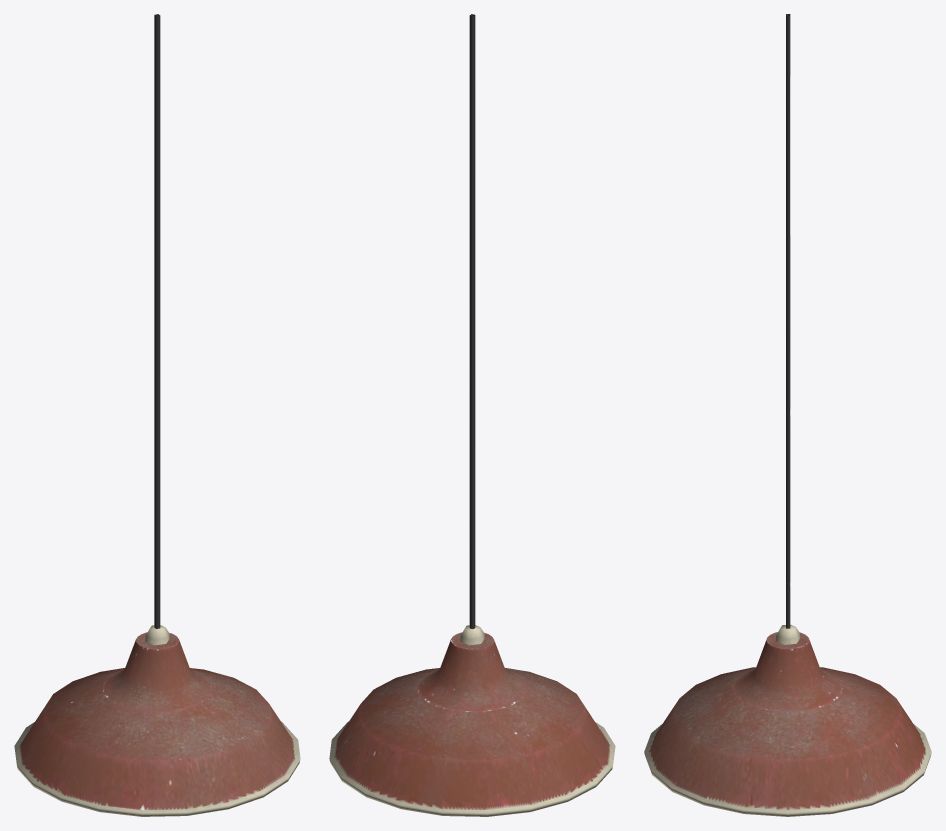
Rendered from sm35_028_cafelight01a.fbx.
3 views of the same model, side by side, from view 1: azimuth 30°, elevation 25°; view 2: azimuth 150°, elevation 25°; view 3: azimuth 270°, elevation 25° (orthographic).
Parts seen in each view (by area): view 1: LOD_1_Group_0_Sub_1__sm35_028_cafeLight01A_A_Mat; view 2: LOD_1_Group_0_Sub_1__sm35_028_cafeLight01A_A_Mat; view 3: LOD_1_Group_0_Sub_1__sm35_028_cafeLight01A_A_Mat.
Boxes of the visible parts, x1,y1,x2,y2 form: LOD_1_Group_0_Sub_1__sm35_028_cafeLight01A_A_Mat: (14, 14, 300, 816); LOD_1_Group_0_Sub_1__sm35_028_cafeLight01A_A_Mat: (329, 14, 615, 816); LOD_1_Group_0_Sub_1__sm35_028_cafeLight01A_A_Mat: (644, 14, 931, 816).
Bounding box in the file's own units: 0.5112 × 1.46 × 0.5112.
